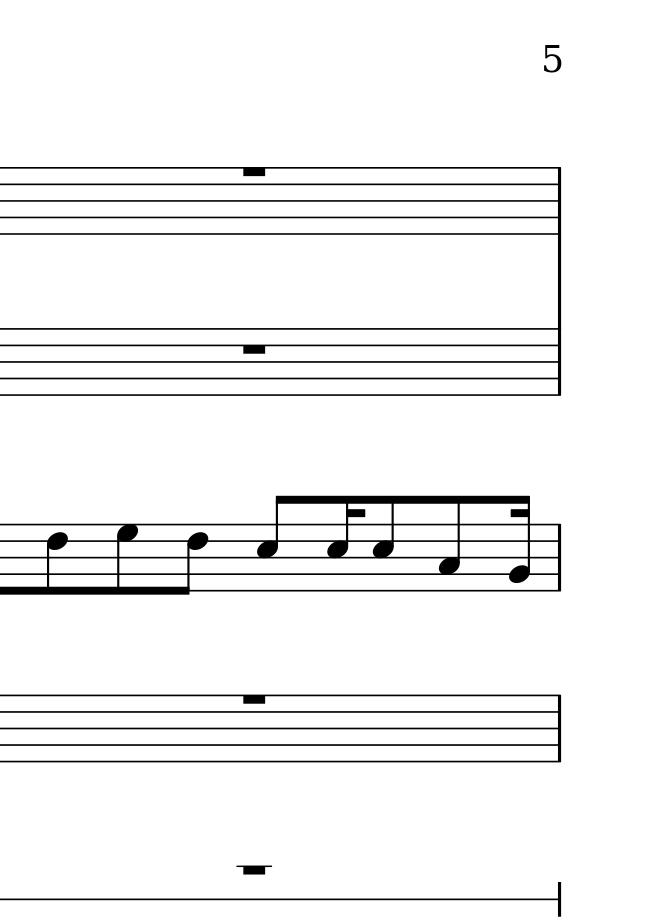16_2: (508, 493, 533, 592)
16_5: (326, 494, 365, 592)
5: (541, 41, 564, 76)
8_3: (437, 493, 464, 594)
8_5: (254, 493, 288, 594), (370, 493, 396, 593)
8_6: (174, 521, 210, 598), (44, 521, 69, 598)
8_7: (113, 522, 139, 597)
Rests1: (238, 340, 270, 359), (238, 691, 270, 709), (238, 163, 269, 181), (238, 861, 269, 879)
Single_barline: (550, 329, 567, 394), (551, 524, 567, 592), (551, 168, 567, 233), (551, 695, 567, 760)
